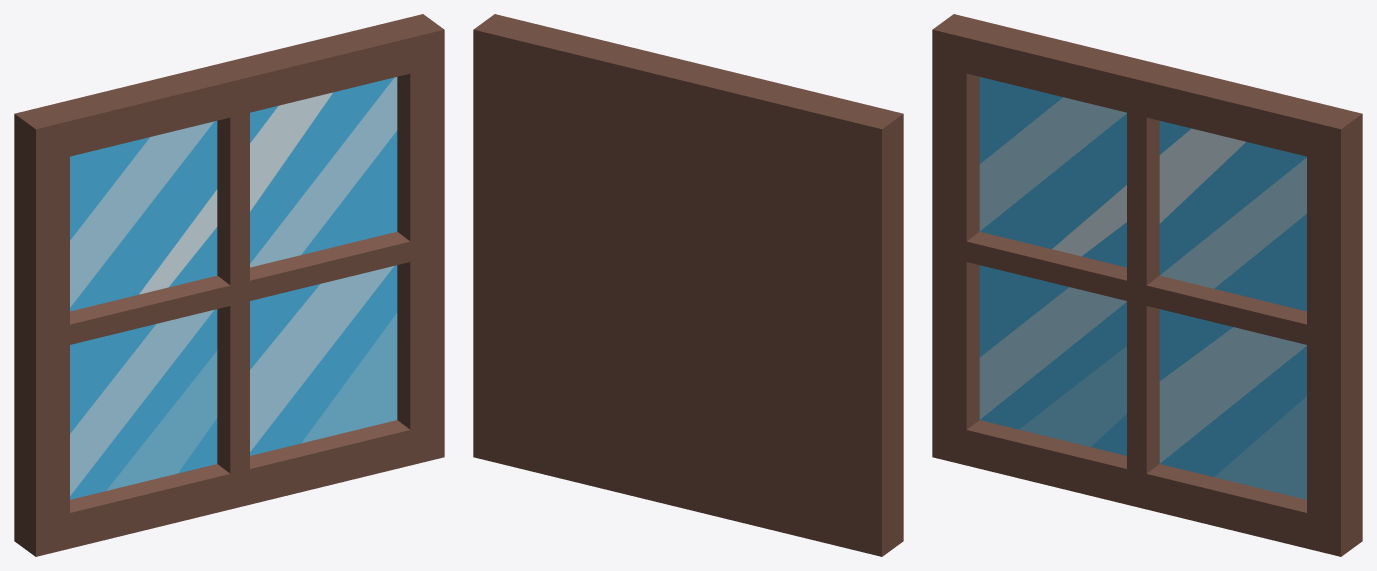
File: window.glb
The picture shows the model from 3 angles, left to right: view 1: azimuth 30°, elevation 25°; view 2: azimuth 150°, elevation 25°; view 3: azimuth 330°, elevation 25°; orthographic projection.
Parts seen in each view (by area): view 1: Cube.1011; view 2: Cube.1011; view 3: Cube.1011.
Part boxes in pixels (x1,y1,x2,y2): Cube.1011: (14,14,444,556); Cube.1011: (473,14,903,556); Cube.1011: (932,14,1362,556).
Bounding box in the file's own units: 2.16 × 2.16 × 0.1954.
1 material, 1 textured.
